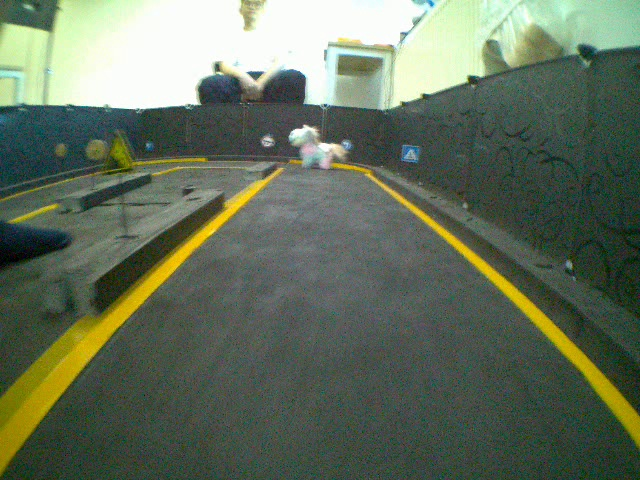unicorn: (285, 123, 353, 174)
